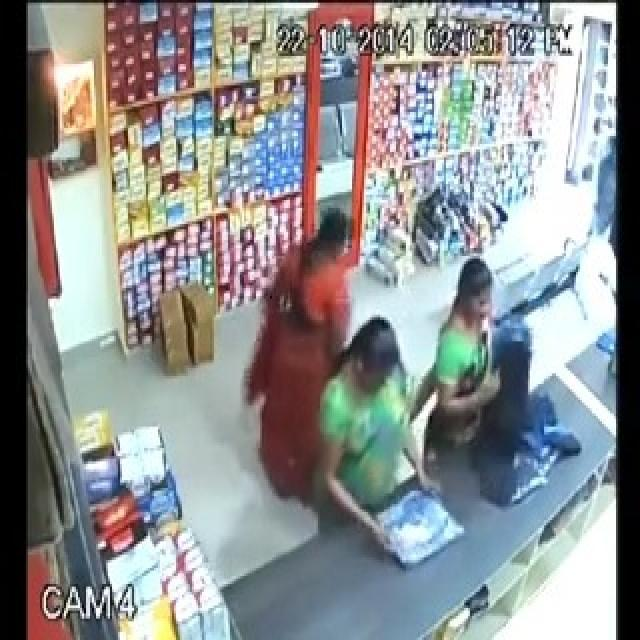normal: (415, 248, 586, 522), (313, 307, 472, 572), (248, 193, 367, 510)
